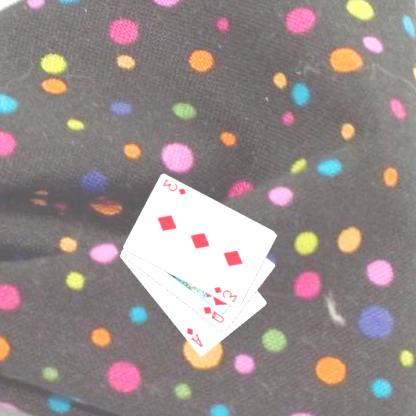3D: (162, 176, 190, 197), (212, 284, 240, 304)
AD: (186, 326, 206, 348)
QD: (202, 304, 227, 325)
